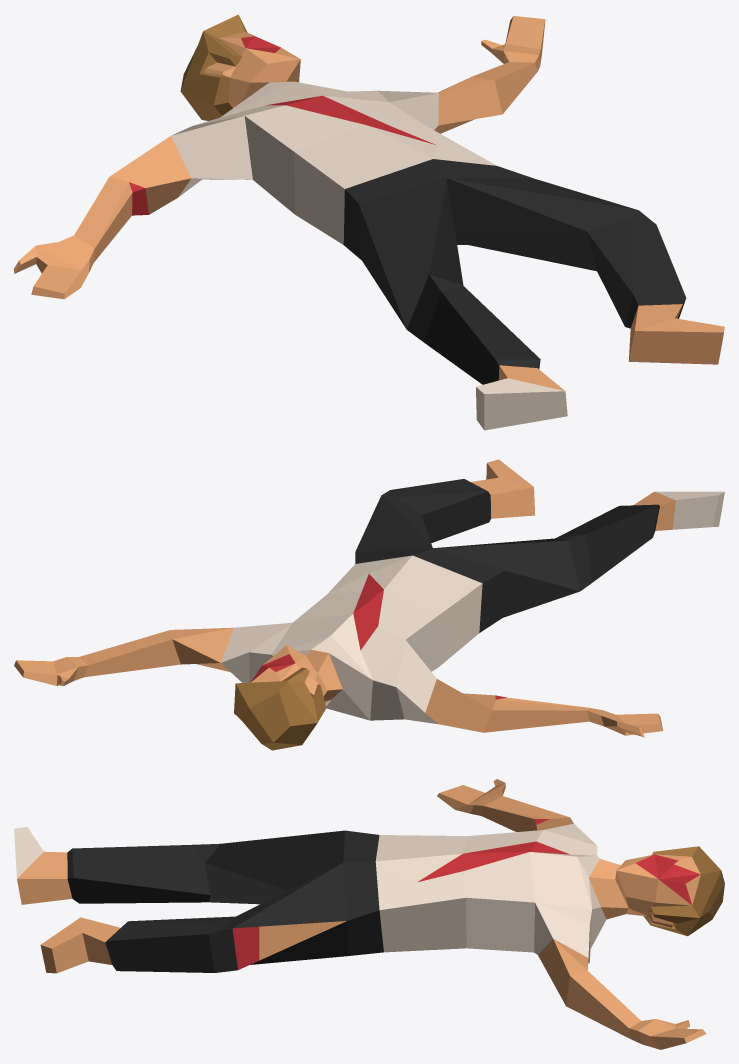
The model's file is apocalypse_man-shirt-dead-c.fbx.
3 renders of one model, top to bottom at view 1: azimuth 30°, elevation 25°; view 2: azimuth 150°, elevation 25°; view 3: azimuth 270°, elevation 25°, orthographic. The views are drawn at different scales.
Visible parts, largest first — view 1: apocalypse_man_shirt_dead_c; view 2: apocalypse_man_shirt_dead_c; view 3: apocalypse_man_shirt_dead_c.
Boxes of the visible parts, x1,y1,x2,y2 form: apocalypse_man_shirt_dead_c: (14, 14, 724, 430); apocalypse_man_shirt_dead_c: (14, 459, 724, 750); apocalypse_man_shirt_dead_c: (14, 779, 724, 1049).
Size of the model in its own units: 178 by 25.67 by 200.
